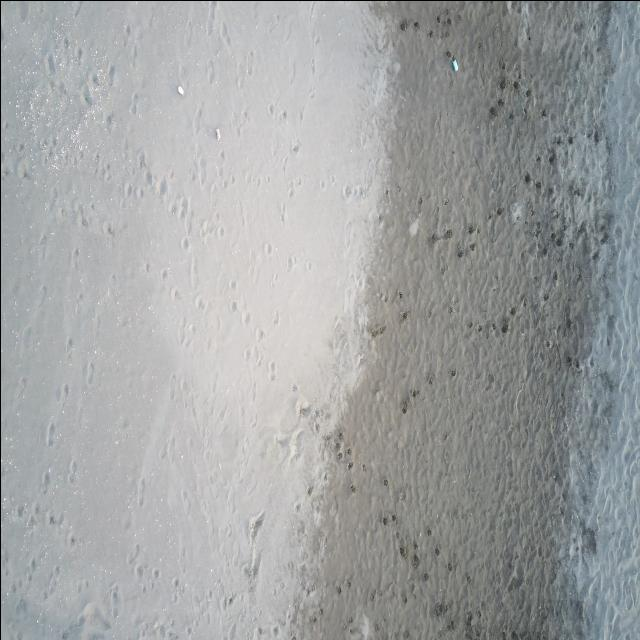Garbage: (451, 56, 457, 71), (176, 84, 183, 95), (215, 128, 220, 140)
